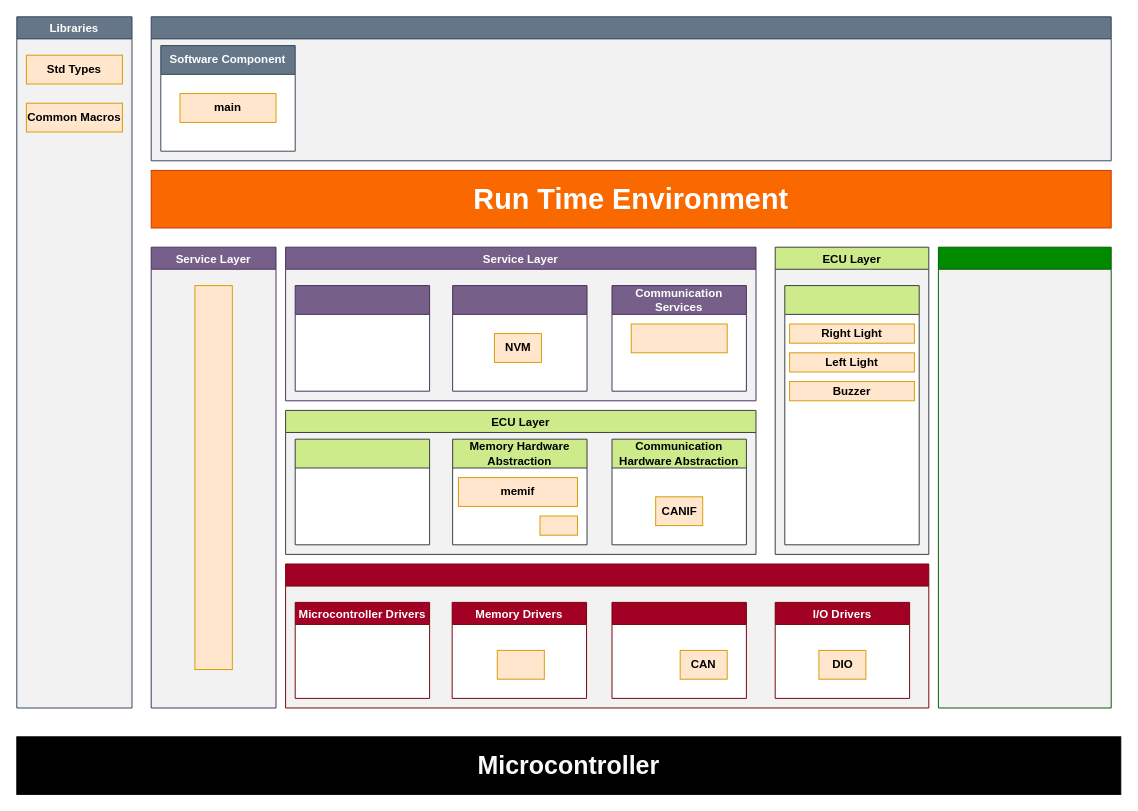
Image size: 1138x811. Some labels were removed from this diagram. Each missing label, with the box of its shape:
Application Layer: (150, 16, 1111, 161)
AUTOSAR OS: (194, 285, 232, 670)
COM: (630, 323, 727, 353)
Communication Drivers: (611, 601, 746, 698)
Complex Drivers: (937, 246, 1111, 708)
Fee: (539, 515, 577, 535)
Fls: (496, 649, 544, 679)
I/O Hardware Abstraction: (784, 285, 919, 545)
MCAL Layer: (285, 563, 929, 708)
Memory Services: (452, 285, 587, 391)
Onboard Device Abstraction: (294, 438, 430, 545)
System Services: (294, 285, 430, 391)
